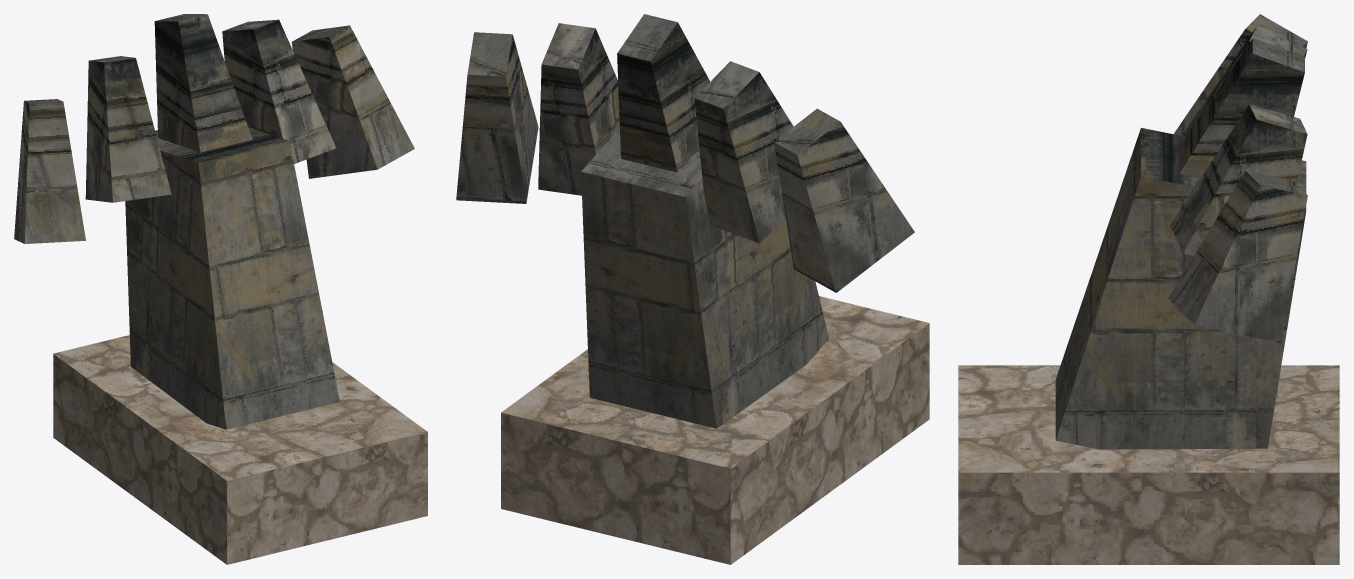
The model's file is temple_statue_naga.glb.
3 views of the same model, side by side, from view 1: azimuth 30°, elevation 25°; view 2: azimuth 150°, elevation 25°; view 3: azimuth 270°, elevation 25° (orthographic). The views are drawn at different scales.
Parts seen in each view (by area): view 1: temple_statue_naga; view 2: temple_statue_naga; view 3: temple_statue_naga.
Part boxes in pixels (x1,y1,x2,y2): temple_statue_naga: [14, 14, 427, 564]; temple_statue_naga: [456, 14, 929, 564]; temple_statue_naga: [958, 14, 1339, 564].
Size of the model in its own units: 1.17 by 1.21 by 0.9.
2 materials, 2 textured.
